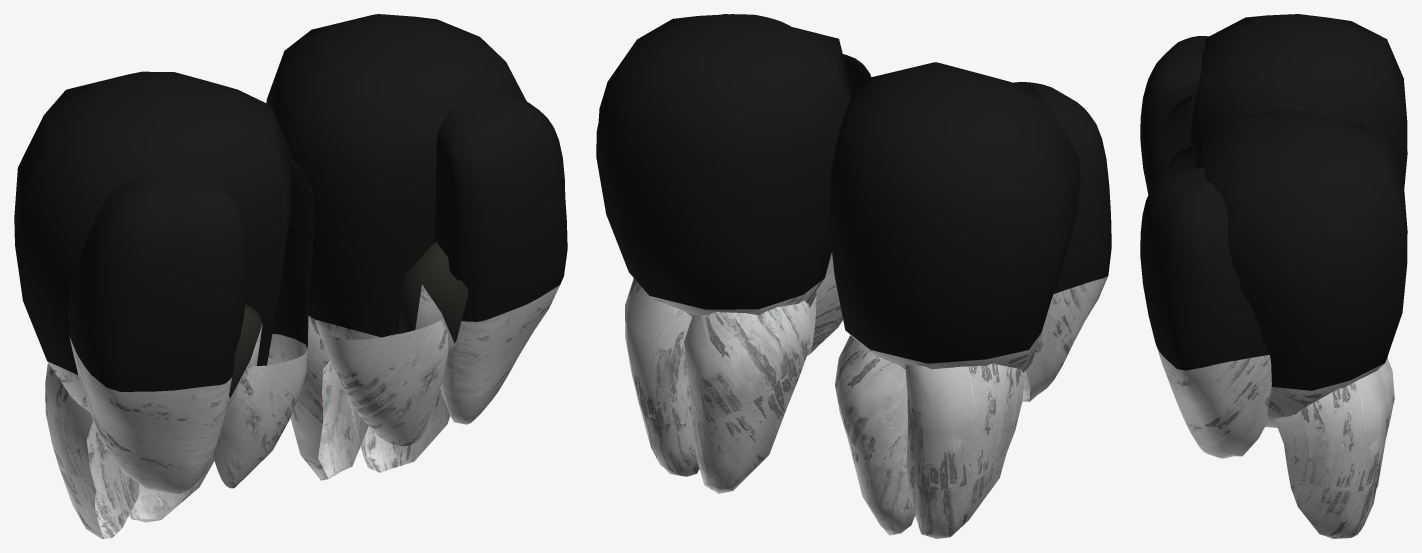
The picture shows the model from 3 angles, left to right: view 1: azimuth 30°, elevation 25°; view 2: azimuth 150°, elevation 25°; view 3: azimuth 270°, elevation 25°; orthographic projection. The views are drawn at different scales.
Parts seen in each view (by area): view 1: thigh_stretch.r, thigh_stretch.l, leg_stretch.r, leg_stretch.l; view 2: thigh_stretch.r, thigh_stretch.l, leg_stretch.l, leg_stretch.r; view 3: thigh_stretch.l, thigh_stretch.r, leg_stretch.l.
Part boxes in pixels (x1,y1,x2,y2): thigh_stretch.r: (14,71,314,494); thigh_stretch.l: (266,14,567,446); leg_stretch.r: (45,363,214,538); leg_stretch.l: (290,324,449,480); thigh_stretch.r: (828,62,1111,401); thigh_stretch.l: (596,14,870,355); leg_stretch.l: (625,278,810,493); leg_stretch.r: (835,335,1024,538); thigh_stretch.l: (1140,110,1407,458); thigh_stretch.r: (1140,14,1407,194); leg_stretch.l: (1274,358,1394,538).
Size of the model in its own units: 0.6689 by 0.6071 by 0.3597.
